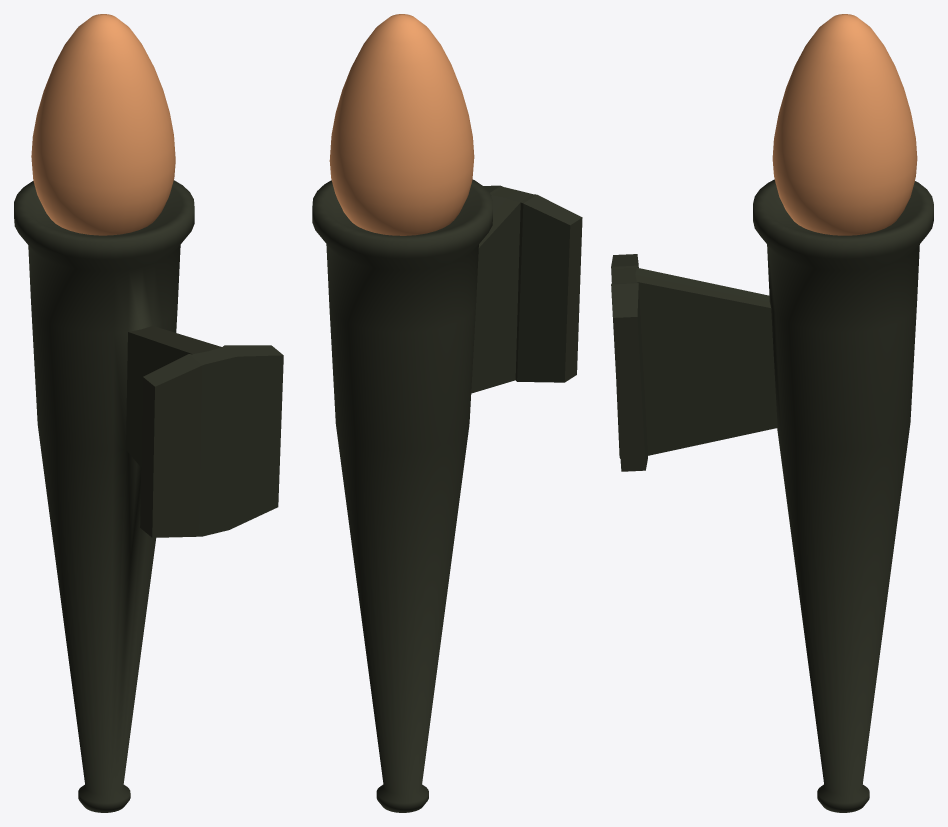
File: torch_001.fbx
3 views of the same model, side by side, from view 1: azimuth 30°, elevation 25°; view 2: azimuth 150°, elevation 25°; view 3: azimuth 270°, elevation 25° (orthographic).
Parts seen in each view (by area): view 1: Cylinder, Sphere.002; view 2: Cylinder, Sphere.002; view 3: Cylinder, Sphere.002.
Boxes of the visible parts, x1=… form: Cylinder: x1=14, y1=180, x2=283, y2=812; Sphere.002: x1=31, y1=14, x2=175, y2=235; Cylinder: x1=312, y1=179, x2=582, y2=812; Sphere.002: x1=329, y1=14, x2=474, y2=235; Cylinder: x1=611, y1=179, x2=933, y2=812; Sphere.002: x1=772, y1=14, x2=917, y2=235.
Size of the model in its own units: 0.3344 by 1.61 by 0.5968.
